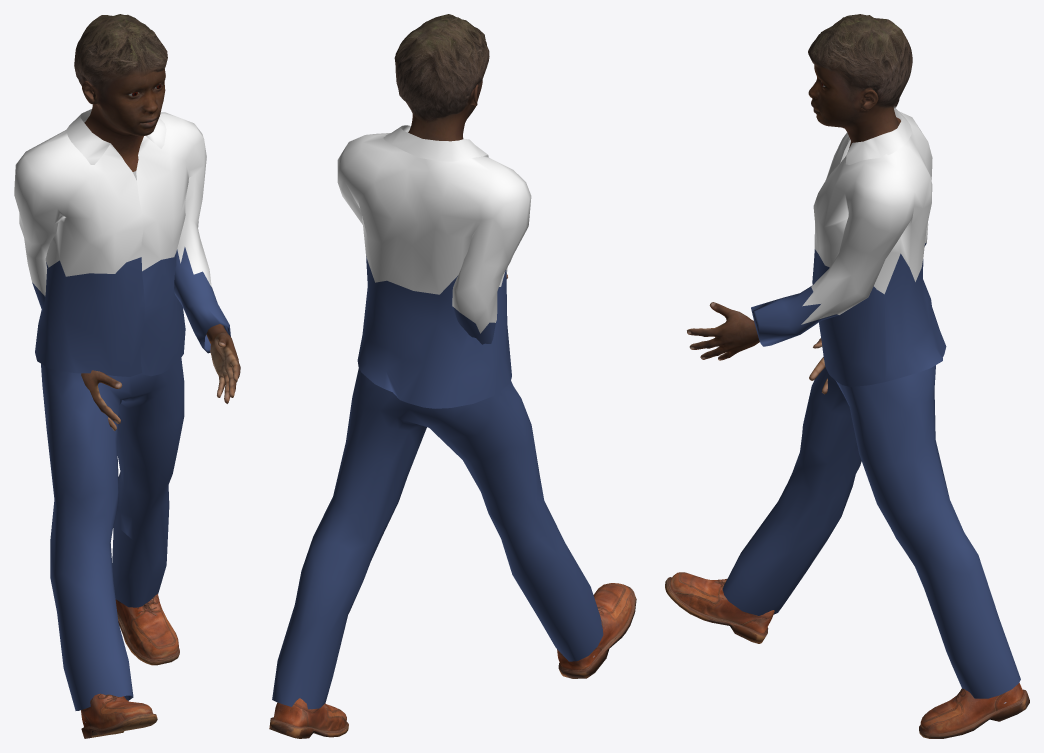
File: street_schoolboy.glb
3 views of the same model, side by side, from view 1: azimuth 30°, elevation 25°; view 2: azimuth 150°, elevation 25°; view 3: azimuth 270°, elevation 25° (orthographic). The views are drawn at different scales.
Visible parts, largest first — view 1: schoolboy; view 2: schoolboy; view 3: schoolboy.
Boxes of the visible parts, box(x1,y1,x2,y2) form: schoolboy: box(14, 14, 240, 738); schoolboy: box(269, 14, 636, 738); schoolboy: box(665, 14, 1029, 738).
Bounding box in the file's own units: 0.4329 × 1.43 × 0.6991.
9 materials, 7 textured.
